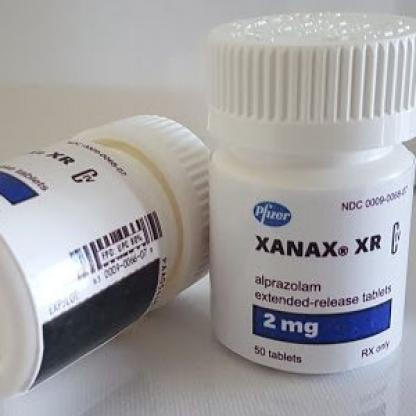jar: (209, 11, 416, 373)
